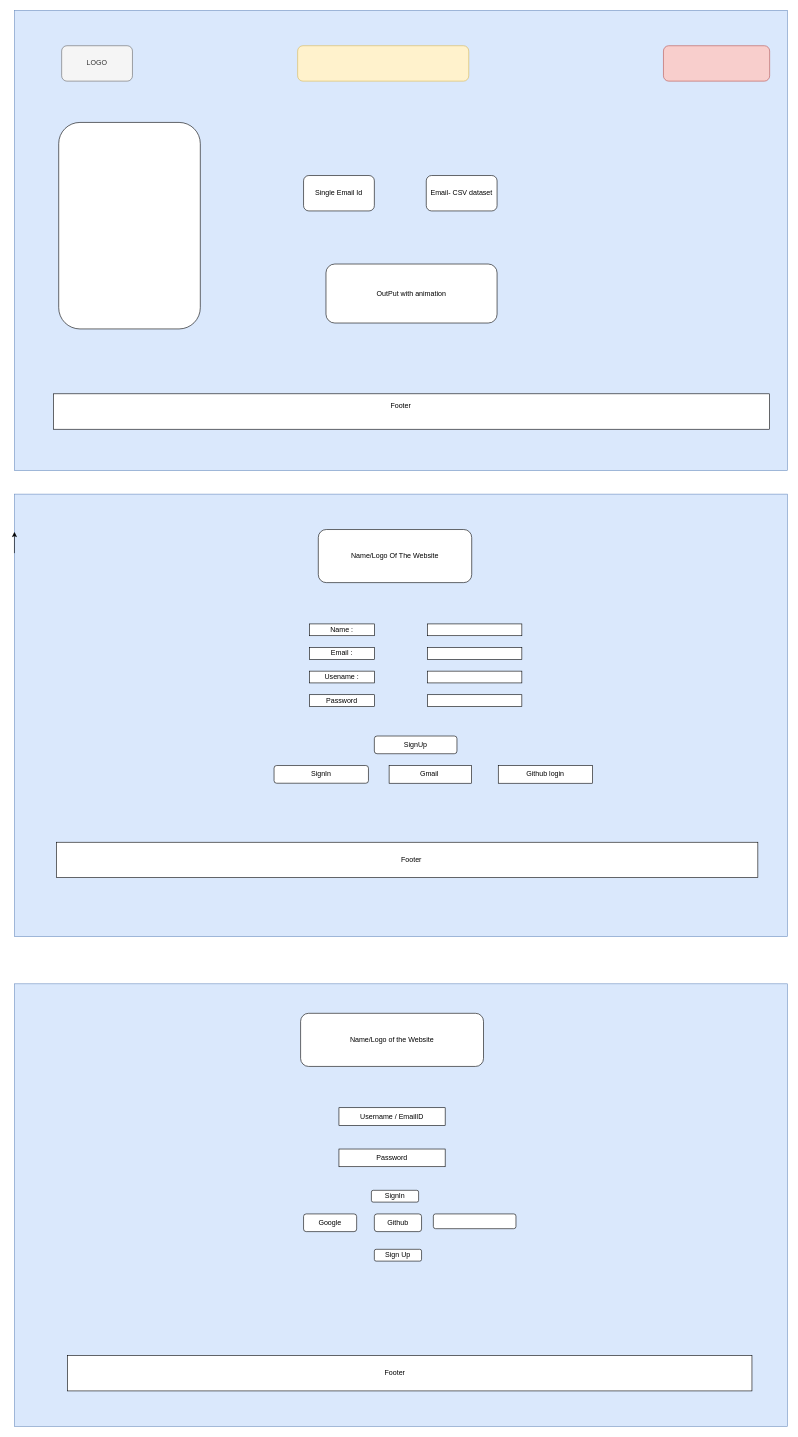
Image size: 798x1437. Some labels were removed from this diagram. The shapes that lost their labels are listed below. From the top down, each one's centre as x and y in pixels, then its label:
pixel 383 63: Name of the Site
pixel 716 63: About/Profile/Settings/Logout
pixel 129 225: Listing of valid emails
pixel 474 1221: Forget Password
